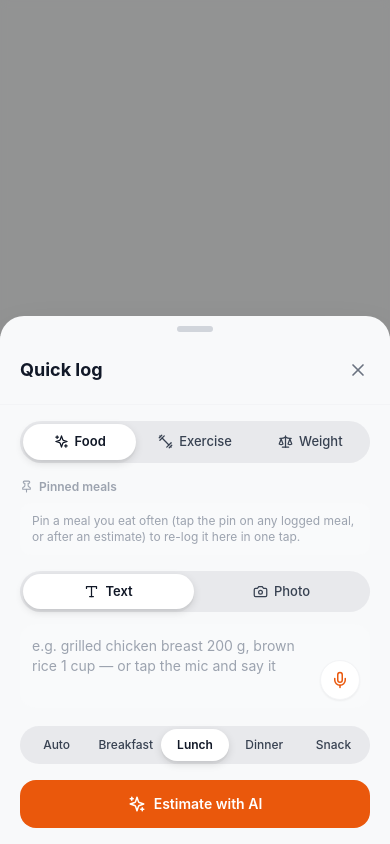
Test: LogModal voice input › tapping again stops listening
Click the button named "Speak your meal".
click(340, 680)  # box [320, 660, 360, 700]
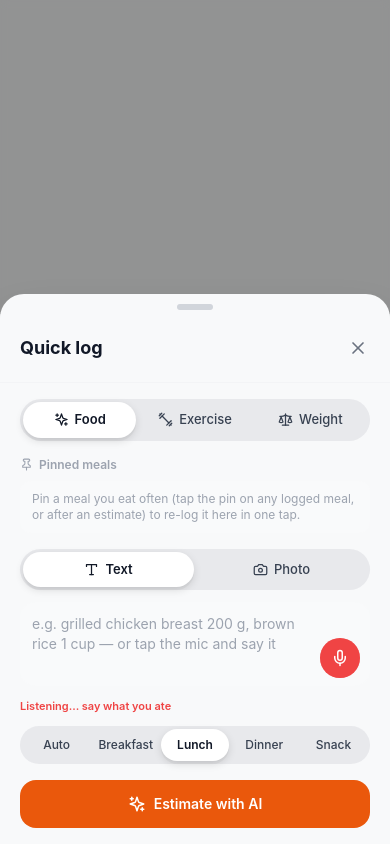
Click the button named "Stop voice input".
click(340, 658)  # box [320, 638, 360, 678]
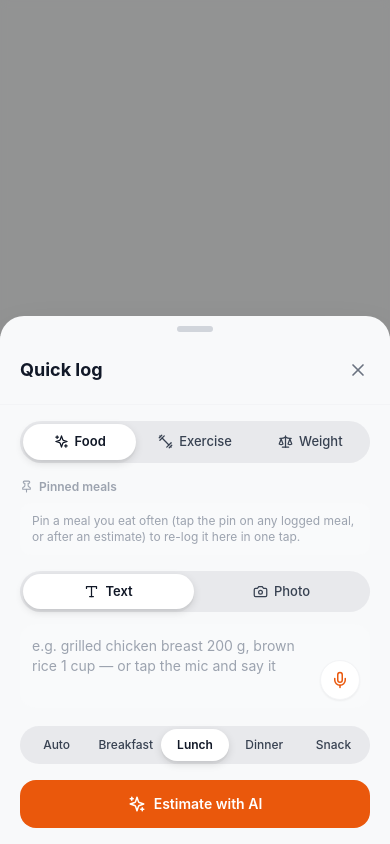
expect the text "Listening" is gone: met
